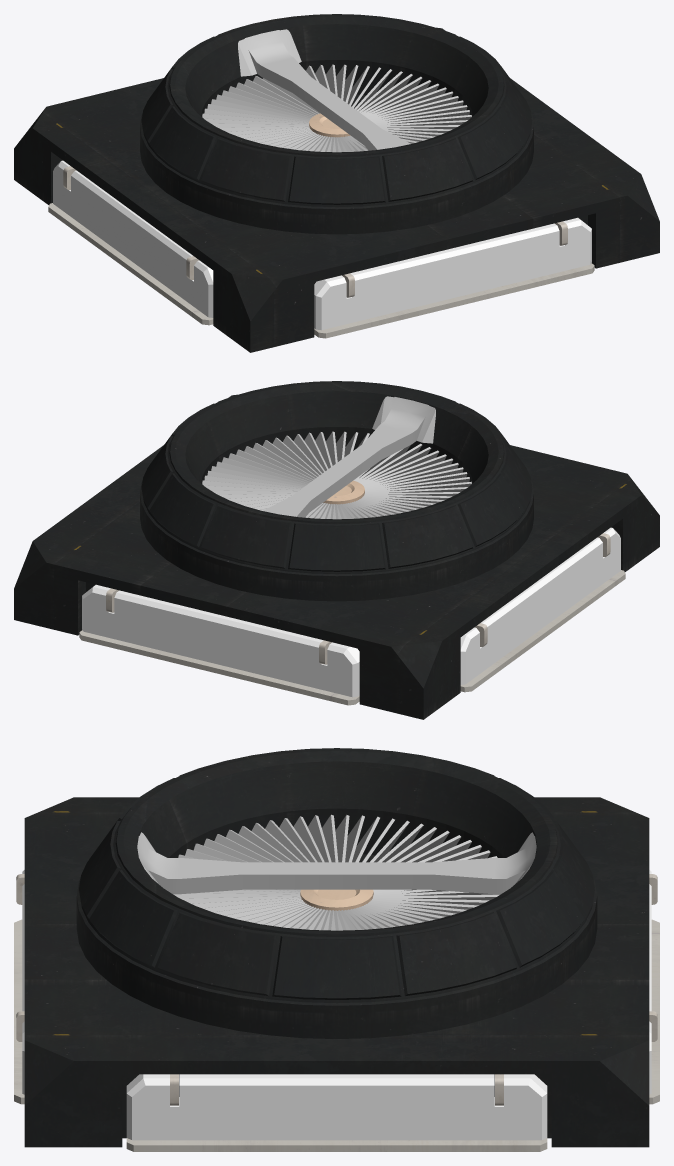
Rendered from KB3D_CBP_ACunit_I.fbx.
3 renders of one model, top to bottom at view 1: azimuth 30°, elevation 25°; view 2: azimuth 150°, elevation 25°; view 3: azimuth 270°, elevation 25°, orthographic. The views are drawn at different scales.
Parts seen in each view (by area): view 1: KB3D_CBP_ACunit_I_Main; view 2: KB3D_CBP_ACunit_I_Main; view 3: KB3D_CBP_ACunit_I_Main.
Part boxes in pixels (x1,y1,x2,y2): KB3D_CBP_ACunit_I_Main: (14, 14, 659, 352); KB3D_CBP_ACunit_I_Main: (14, 381, 659, 719); KB3D_CBP_ACunit_I_Main: (14, 748, 659, 1151).
Bounding box in the file's own units: 367 × 109 × 367.
